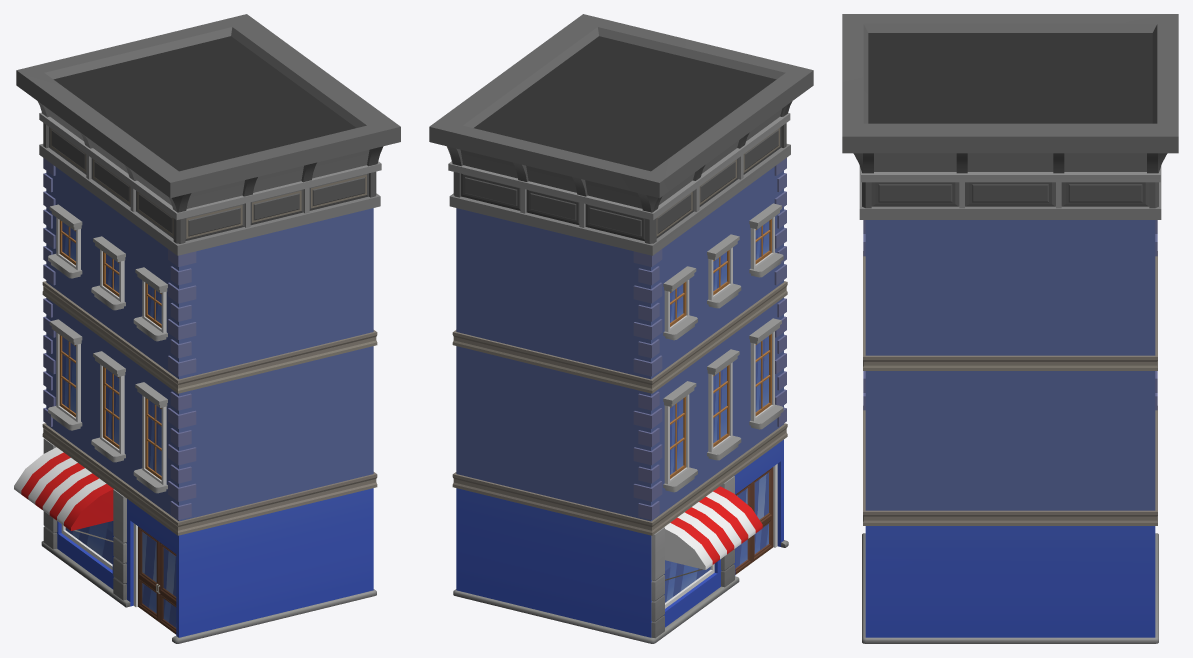
Rendered from Building_8_2_K.fbx.
3 renders of one model, left to right at view 1: azimuth 30°, elevation 25°; view 2: azimuth 150°, elevation 25°; view 3: azimuth 270°, elevation 25°, orthographic. The views are drawn at different scales.
Parts seen in each view (by area): view 1: Building 8_2_K; view 2: Building 8_2_K; view 3: Building 8_2_K.
Boxes of the visible parts, x1,y1,x2,y2 form: Building 8_2_K: (14, 14, 400, 643); Building 8_2_K: (429, 14, 813, 643); Building 8_2_K: (842, 14, 1178, 643).
Size of the model in its own units: 720 by 1276 by 755.
